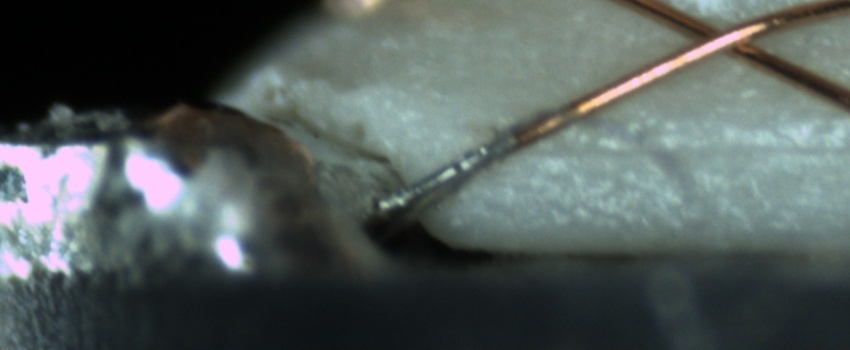CL: (670, 8, 773, 66)
DL: (485, 117, 850, 181)
TS: (378, 131, 515, 219)
